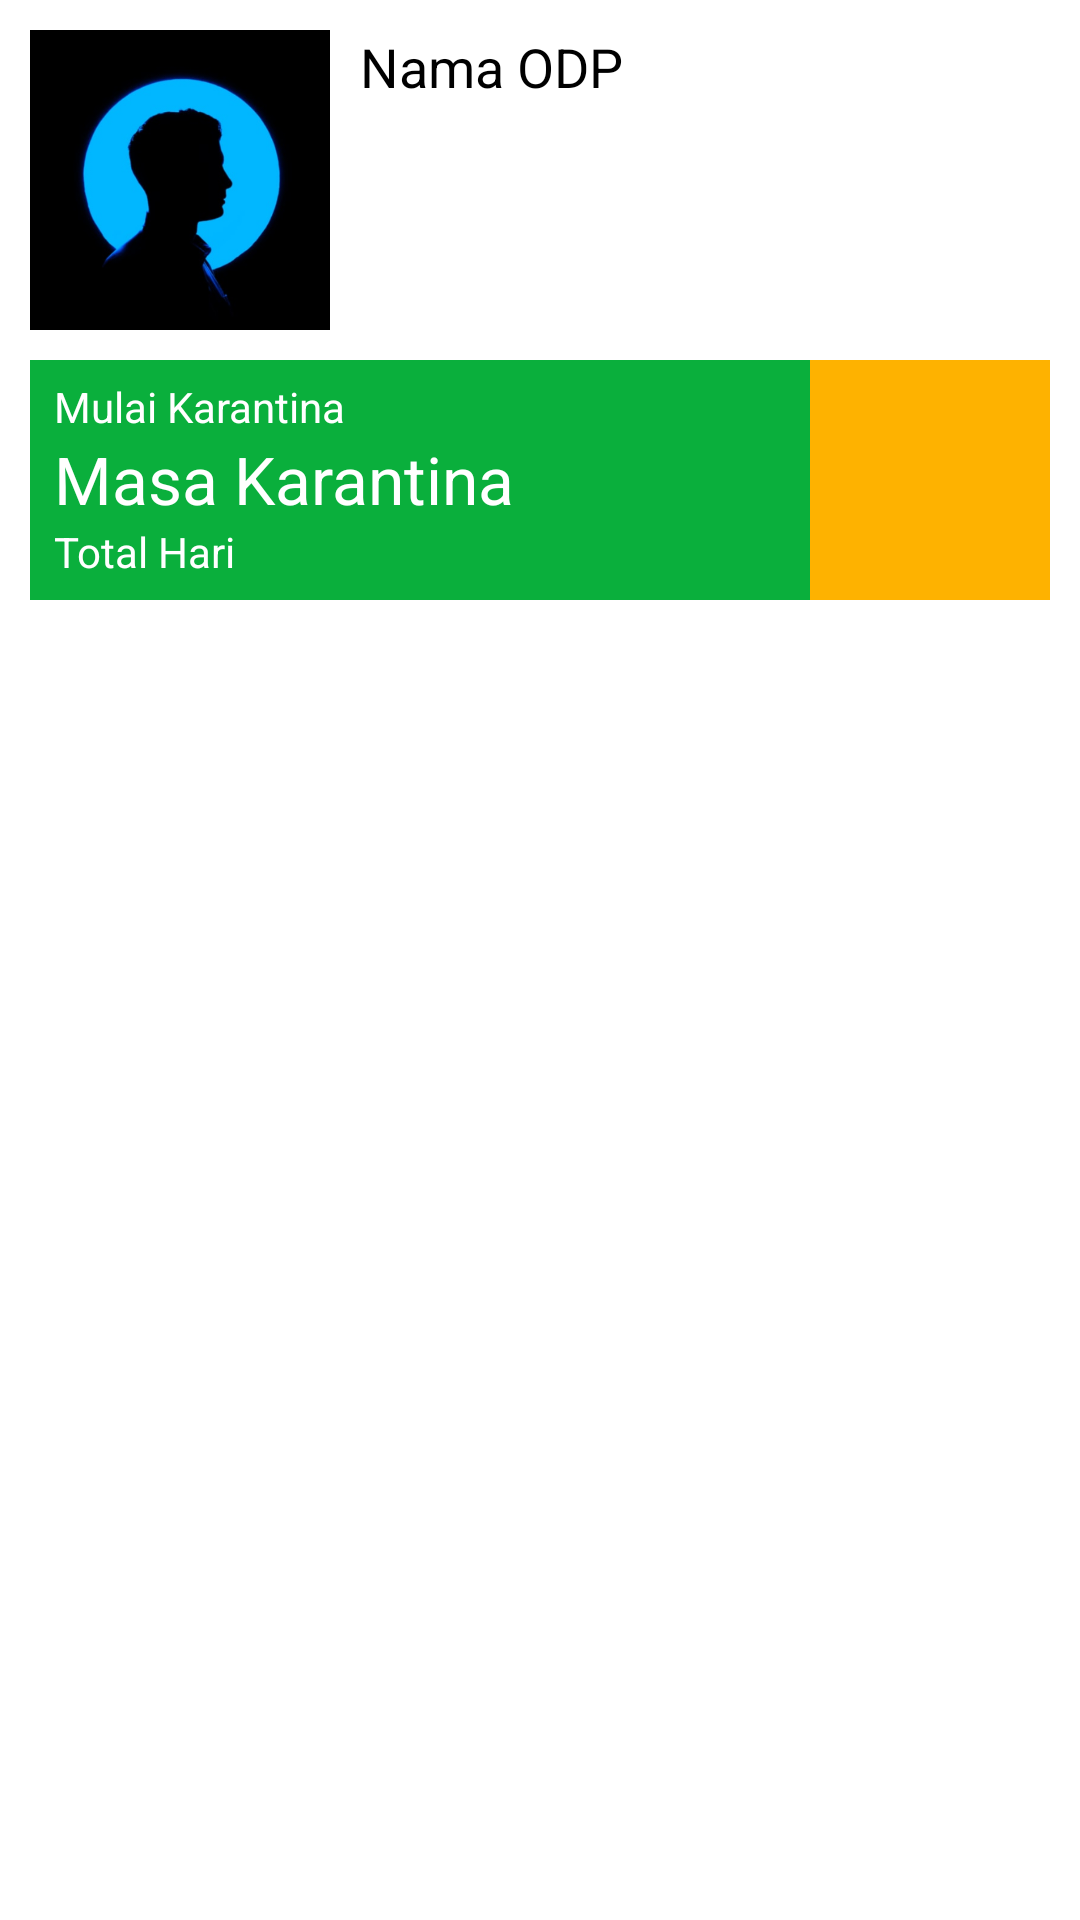

Where to tap for icons on this 1080px×1920px app screen, as [x,y]:
fotoprofilkosong: [180,180]
